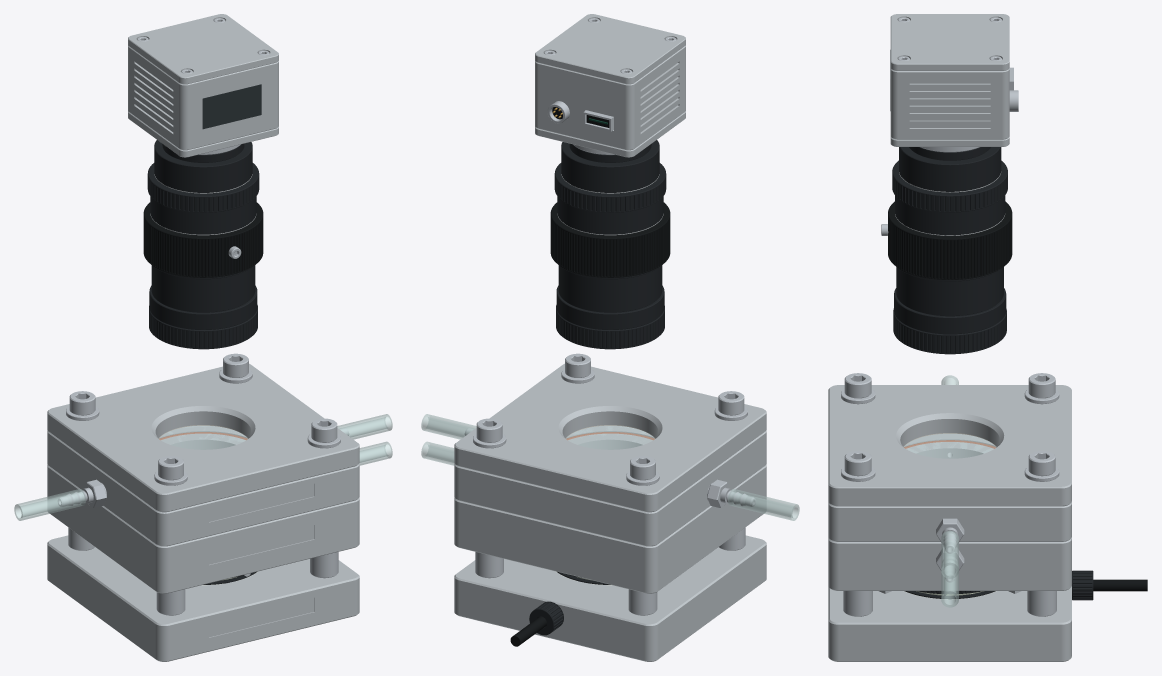
The model's file is fouling_cell_realistic.glb.
The picture shows the model from 3 angles, left to right: view 1: azimuth 30°, elevation 25°; view 2: azimuth 150°, elevation 25°; view 3: azimuth 270°, elevation 25°; orthographic projection. The views are drawn at different scales.
Parts seen in each view (by area): view 1: 03_window_retainer, 11_led_heat_sink, 02_filtrate_chamber, 01_flow_chamber, 22_camera_housing, 23_camera_rear_cover, 19_focus_ring, lens_forward_barrel, lens_rear_barrel, 20_aperture_ring, lens_scale_barrel, 16_analyser_rotation_ring (+15 smaller); view 2: 03_window_retainer, 11_led_heat_sink, 02_filtrate_chamber, 01_flow_chamber, 22_camera_housing, 23_camera_rear_cover, 19_focus_ring, lens_forward_barrel, lens_rear_barrel, 20_aperture_ring, lens_scale_barrel, 16_analyser_rotation_ring (+15 smaller); view 3: 03_window_retainer, 11_led_heat_sink, 02_filtrate_chamber, 01_flow_chamber, 22_camera_housing, 23_camera_rear_cover, 19_focus_ring, lens_forward_barrel, lens_rear_barrel, 20_aperture_ring, lens_scale_barrel, 16_analyser_rotation_ring (+15 smaller).
Boxes of the visible parts, left/top/right/bottom form: 03_window_retainer: left=47, top=363, right=359, bottom=512; 11_led_heat_sink: left=47, top=535, right=359, bottom=661; 02_filtrate_chamber: left=47, top=464, right=359, bottom=593; 01_flow_chamber: left=47, top=425, right=359, bottom=546; 22_camera_housing: left=128, top=45, right=278, bottom=150; 23_camera_rear_cover: left=128, top=14, right=278, bottom=84; 19_focus_ring: left=143, top=202, right=263, bottom=277; lens_forward_barrel: left=151, top=265, right=255, bottom=312; lens_rear_barrel: left=154, top=140, right=252, bottom=193; 20_aperture_ring: left=147, top=163, right=259, bottom=212; lens_scale_barrel: left=150, top=196, right=256, bottom=235; 16_analyser_rotation_ring: left=149, top=305, right=257, bottom=349; 03_window_retainer: left=454, top=363, right=766, bottom=512; 11_led_heat_sink: left=454, top=535, right=766, bottom=661; 02_filtrate_chamber: left=454, top=464, right=766, bottom=593; 01_flow_chamber: left=454, top=425, right=766, bottom=546; 22_camera_housing: left=535, top=45, right=685, bottom=150; 23_camera_rear_cover: left=535, top=14, right=685, bottom=84; 19_focus_ring: left=550, top=202, right=670, bottom=277; lens_forward_barrel: left=558, top=265, right=662, bottom=312; lens_rear_barrel: left=561, top=140, right=659, bottom=193; 20_aperture_ring: left=554, top=163, right=666, bottom=212; lens_scale_barrel: left=557, top=196, right=663, bottom=235; 16_analyser_rotation_ring: left=556, top=305, right=664, bottom=349; 03_window_retainer: left=828, top=385, right=1071, bottom=506; 11_led_heat_sink: left=828, top=586, right=1071, bottom=661; 02_filtrate_chamber: left=828, top=537, right=1071, bottom=590; 01_flow_chamber: left=828, top=433, right=1071, bottom=541; 22_camera_housing: left=890, top=68, right=1009, bottom=139; 23_camera_rear_cover: left=890, top=14, right=1009, bottom=70; 19_focus_ring: left=888, top=201, right=1012, bottom=279; lens_forward_barrel: left=896, top=267, right=1003, bottom=316; lens_rear_barrel: left=899, top=147, right=1001, bottom=192; 20_aperture_ring: left=892, top=160, right=1007, bottom=212; lens_scale_barrel: left=895, top=195, right=1005, bottom=235; 16_analyser_rotation_ring: left=893, top=308, right=1006, bottom=354.
Bounding box in the file's own units: 0.164 × 0.2335 × 0.118.
